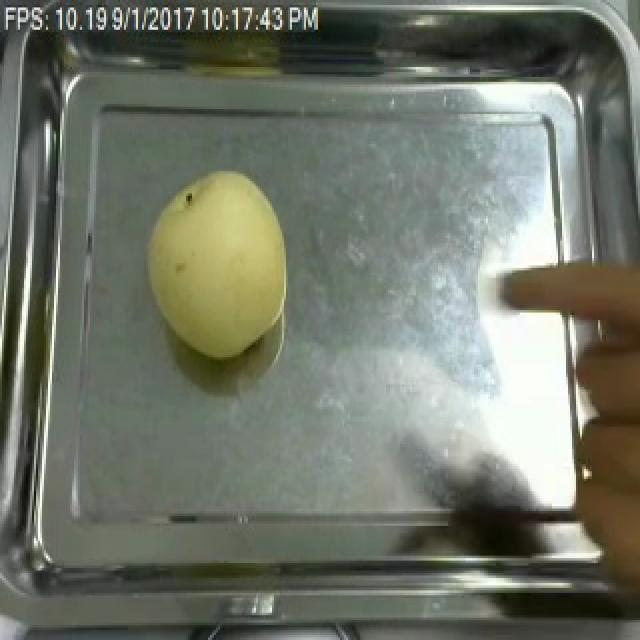Fruit: (140, 166, 296, 365), (496, 238, 640, 429), (572, 400, 640, 596)
